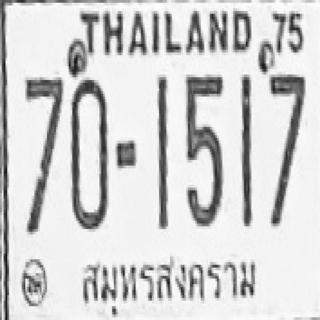N00: (70, 77, 108, 229)
N01: (155, 74, 168, 221), (240, 76, 252, 228)
N05: (185, 73, 222, 228)
N07: (24, 74, 64, 232), (268, 72, 306, 226), (25, 76, 63, 184), (269, 72, 306, 177)
P59: (78, 254, 260, 310)
